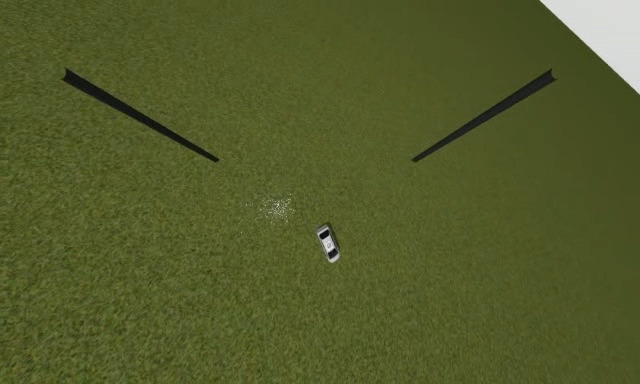Car: (316, 224, 342, 263)
Landing Pad: (326, 239, 334, 251)
